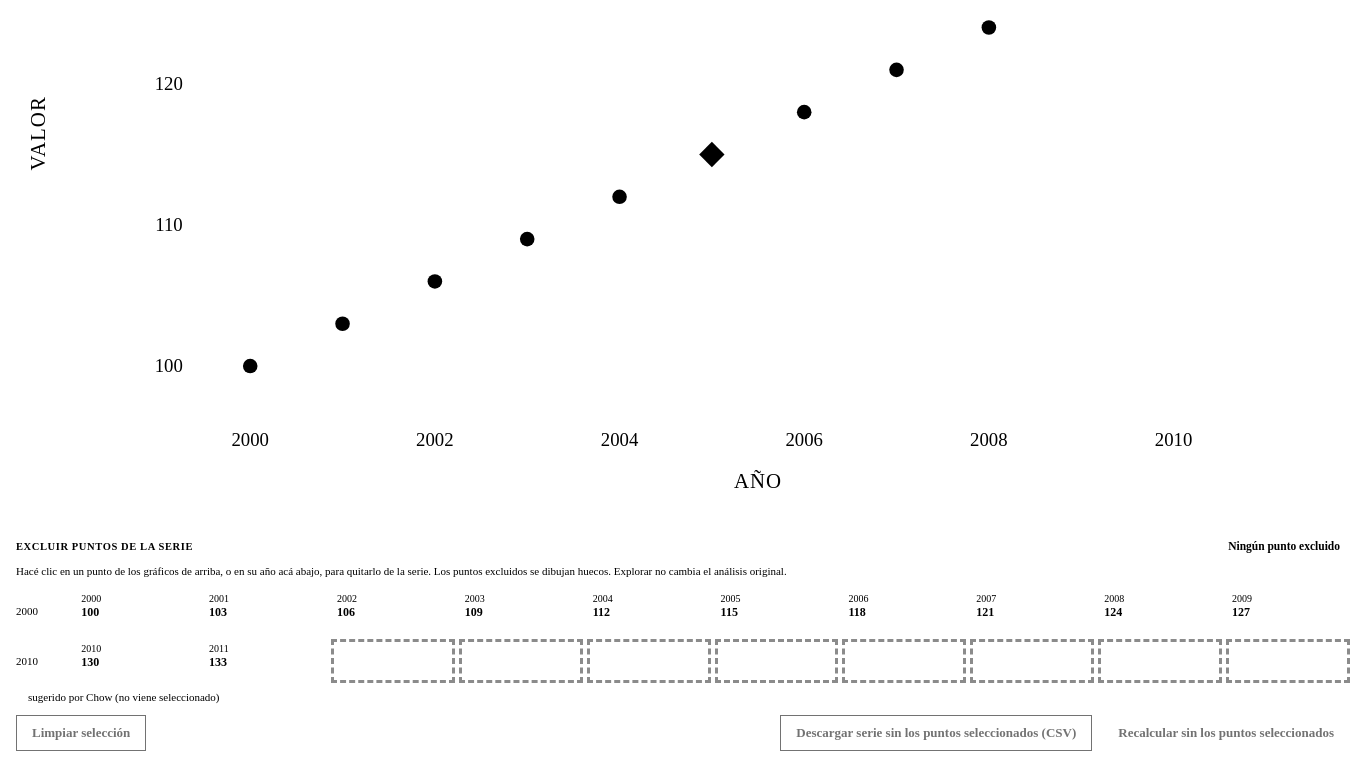
Etapa1GraficosView — recalcular sin los puntos (A2) › muestra qué se quitó, el n de cada lado y los veredictos que cambiaron
(page scrolled)
What coordinates should you click on to do the following:
click the button "2005 115"
I would click on:
 (777, 611)
Its box is [715,589,838,633].
(page scrolled)
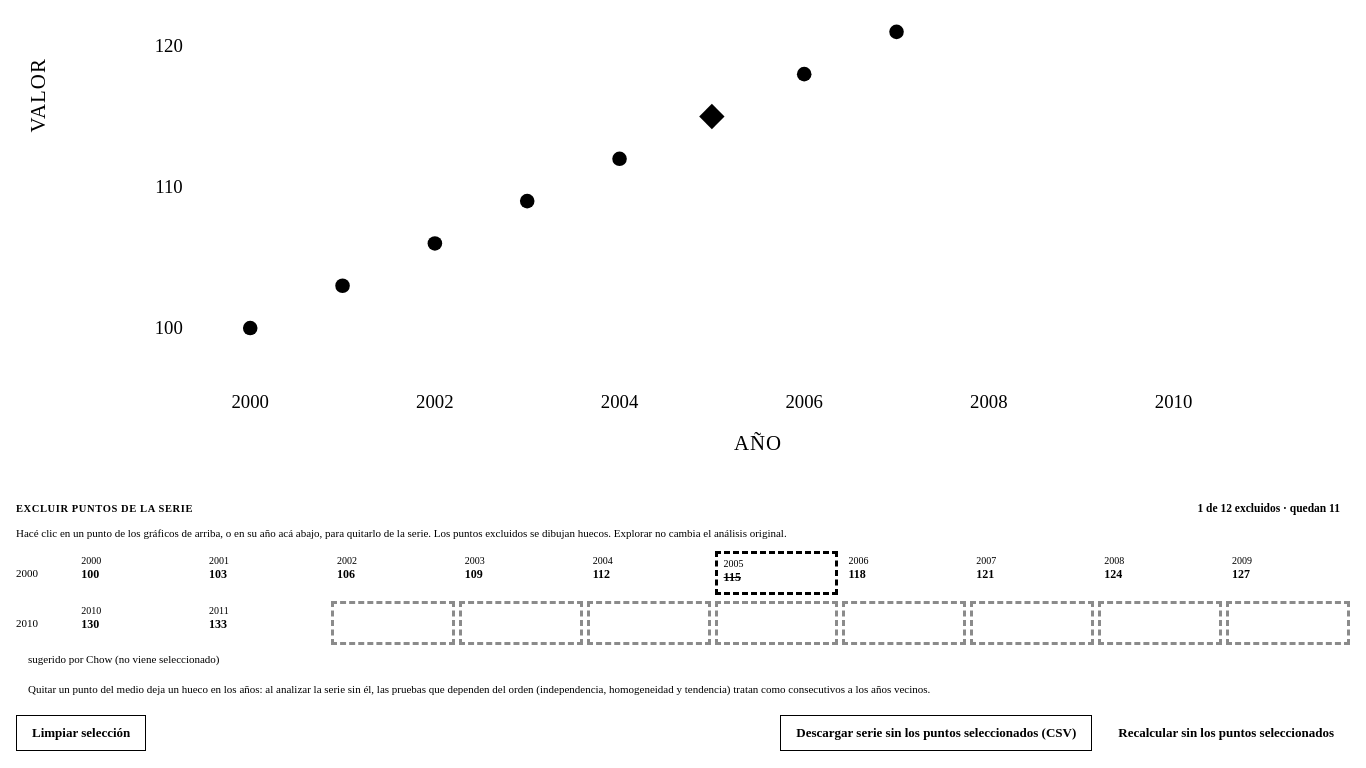
What coordinates should you click on to do the following:
click the button "Recalcular sin los puntos seleccionados"
I would click on:
 (1226, 733)
Its box is [1102,715,1350,751].
(page scrolled)
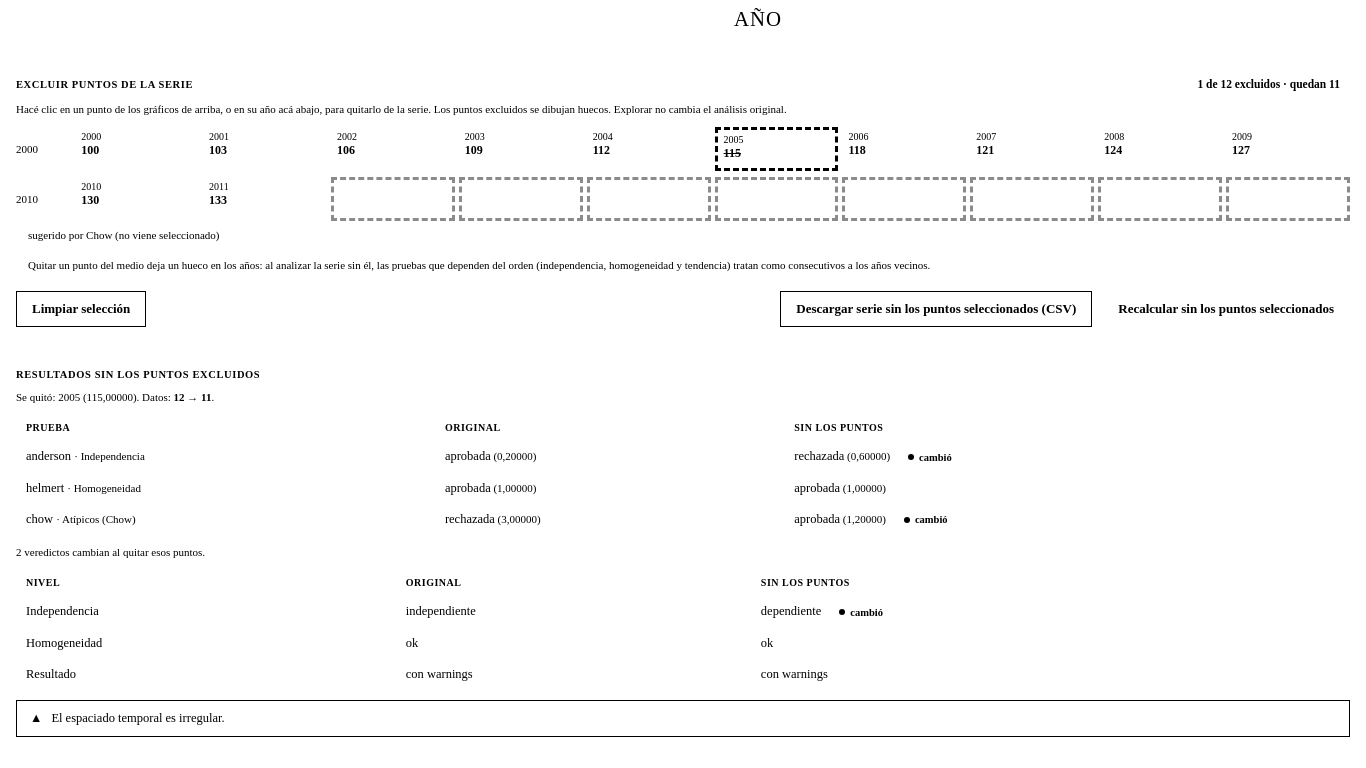
Check: the text "Se quitó: 2005 (115,00000). Datos: 12 → 11." is shown, box [16,391,214,403]
Check: the text "Resultados sin los puntos excluidos" shows "Datos: 12 → 11.", box [0,353,1365,766]
Check: the text "anderson" shows "aprobada", box [445,449,491,463]
